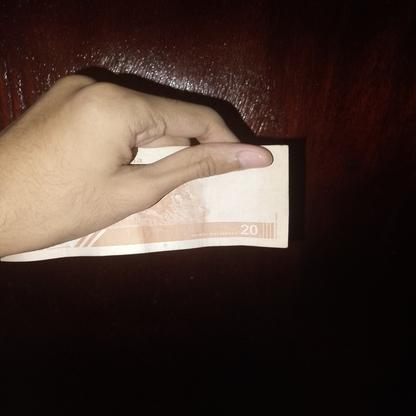twenty-back-vef: (1, 144, 289, 262)
